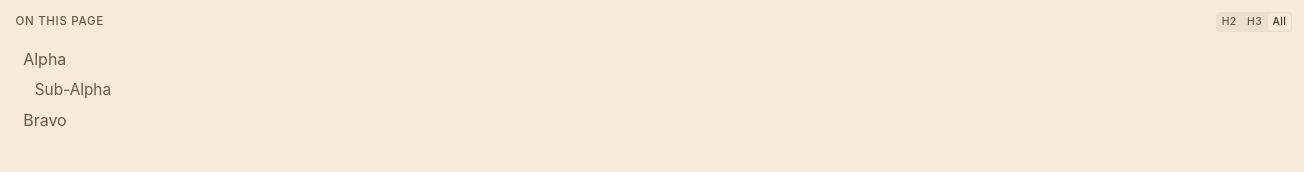
Test: TableOfContents — density control › hides H3+ headings when the user picks the H2 density
Check: the link "Sub-Alpha" is shown, box [35,80,111,99]
Click the radio button labelled "H2" at (1229, 22), box [1217,13,1241,31]
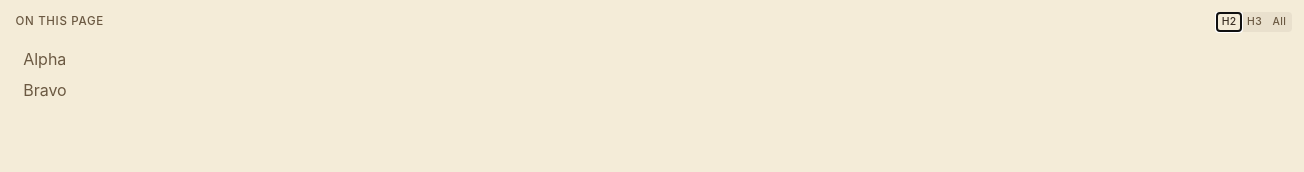
Check: the link "Alpha" is shown, box [23,49,66,69]
Check: the link "Sub-Alpha" is gone
